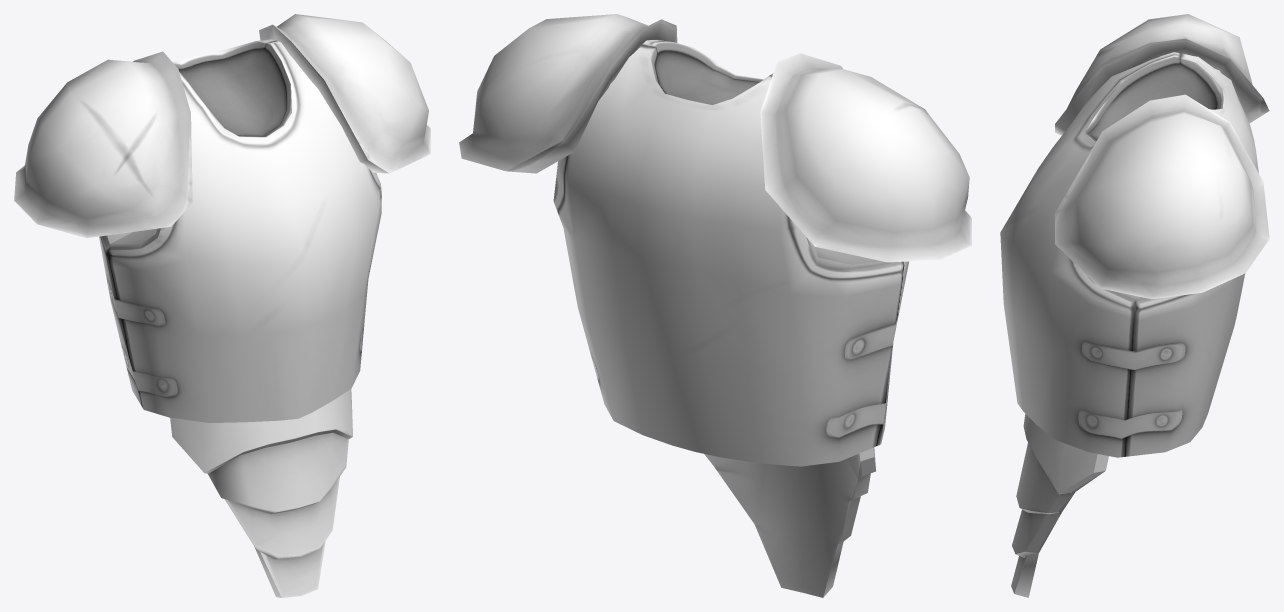
The model's file is 034_a_breastplate_lp.fbx.
3 views of the same model, side by side, from view 1: azimuth 30°, elevation 25°; view 2: azimuth 150°, elevation 25°; view 3: azimuth 270°, elevation 25° (orthographic). The views are drawn at different scales.
Parts seen in each view (by area): view 1: 034_a_breastplate_lp; view 2: 034_a_breastplate_lp; view 3: 034_a_breastplate_lp.
Boxes of the visible parts, left/top/right/bottom form: 034_a_breastplate_lp: left=14, top=14, right=430, bottom=597; 034_a_breastplate_lp: left=459, top=14, right=971, bottom=597; 034_a_breastplate_lp: left=1000, top=14, right=1269, bottom=597.
Size of the model in its own units: 58.53 by 71.19 by 33.15.
